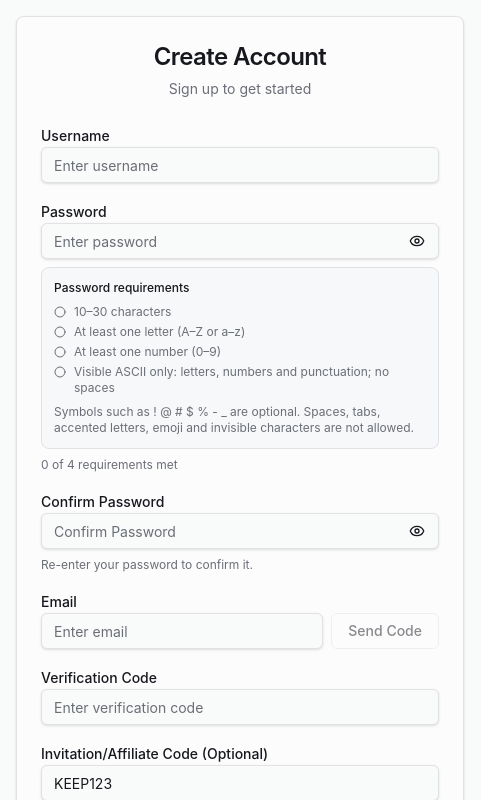
Test case: RegisterPage live password feedback › shows neutral requirements before interaction and updates individual checks while typing
The image size is (481, 800).
Expected: the number of list items is 4, [54,303,171,319]; [54,323,245,339]; [54,343,221,359]; [54,364,426,396]
Expected: the text "0 of 4 requirements met" is shown, [41,457,178,472]
Type "Abcdefg12" into the password field labelled "Password" at point(240, 241), box [41,223,439,259]
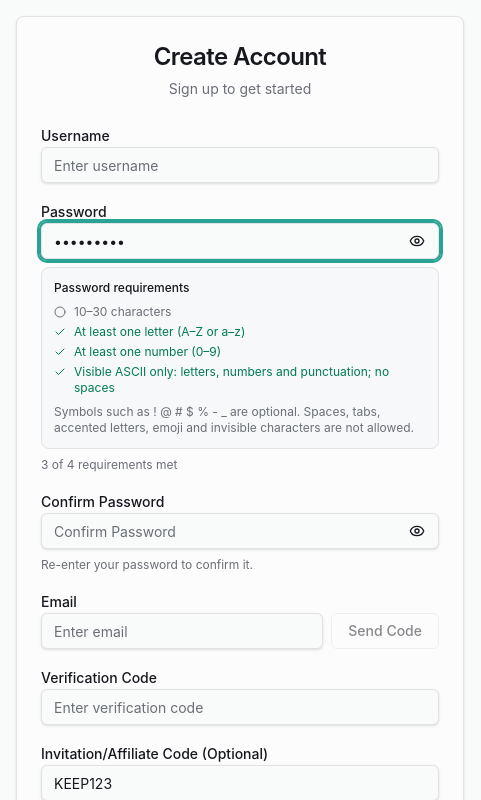
Expected: the text "3 of 4 requirements met" is shown, [41,457,178,472]
Type "3" into the password field labelled "Password" at point(240, 241), box [41,223,439,259]
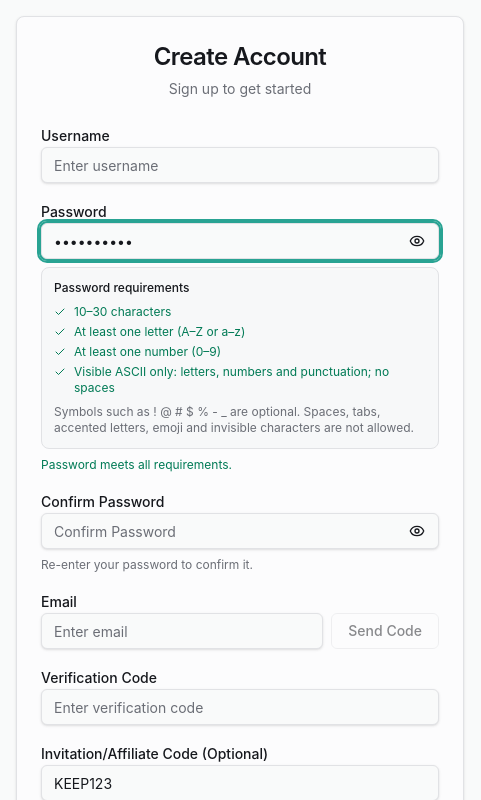
Expected: the text "Password meets all requirements." is shown, [41,457,232,472]
Clear the password field labelled "Password" at point(240, 241), box [41,223,439,259]
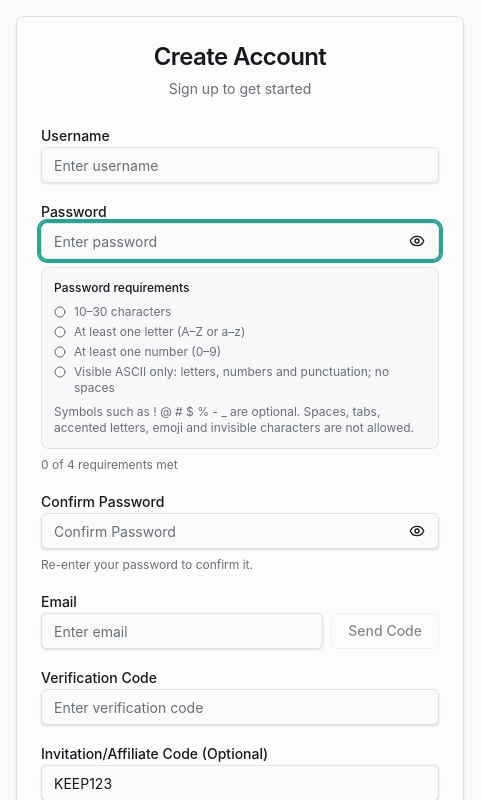
Expected: the text "0 of 4 requirements met" is shown, [41,457,178,472]
Expected: the text "Password meets all requirements." is gone
